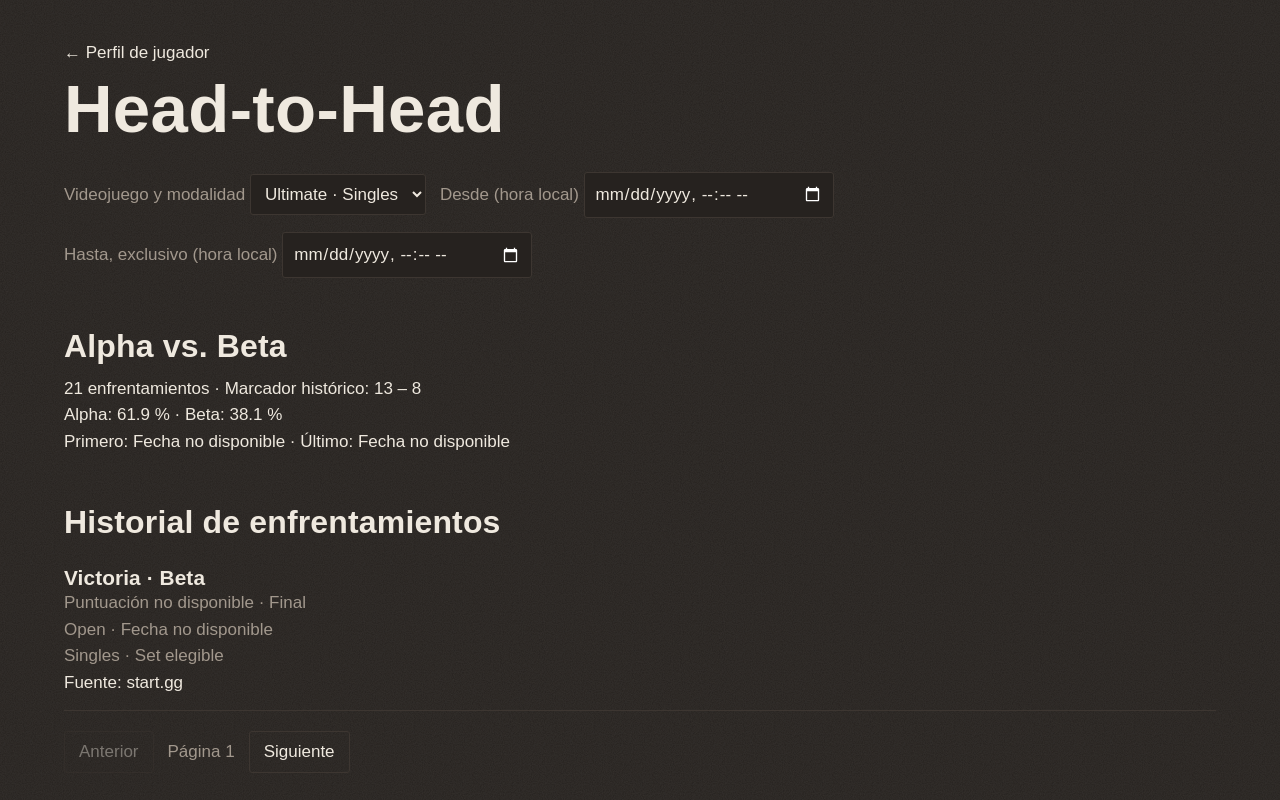
renders a comparison from API totals and paginates history
Check: the text "21 enfrentamientos · Marcador histórico: 13 – 8" is shown, box [64, 379, 421, 398]
Check: the text "Alpha: 61.9 % · Beta: 38.1 %" is shown, box [64, 405, 282, 424]
Click the button "Siguiente".
click(299, 752)  # box [249, 731, 350, 773]
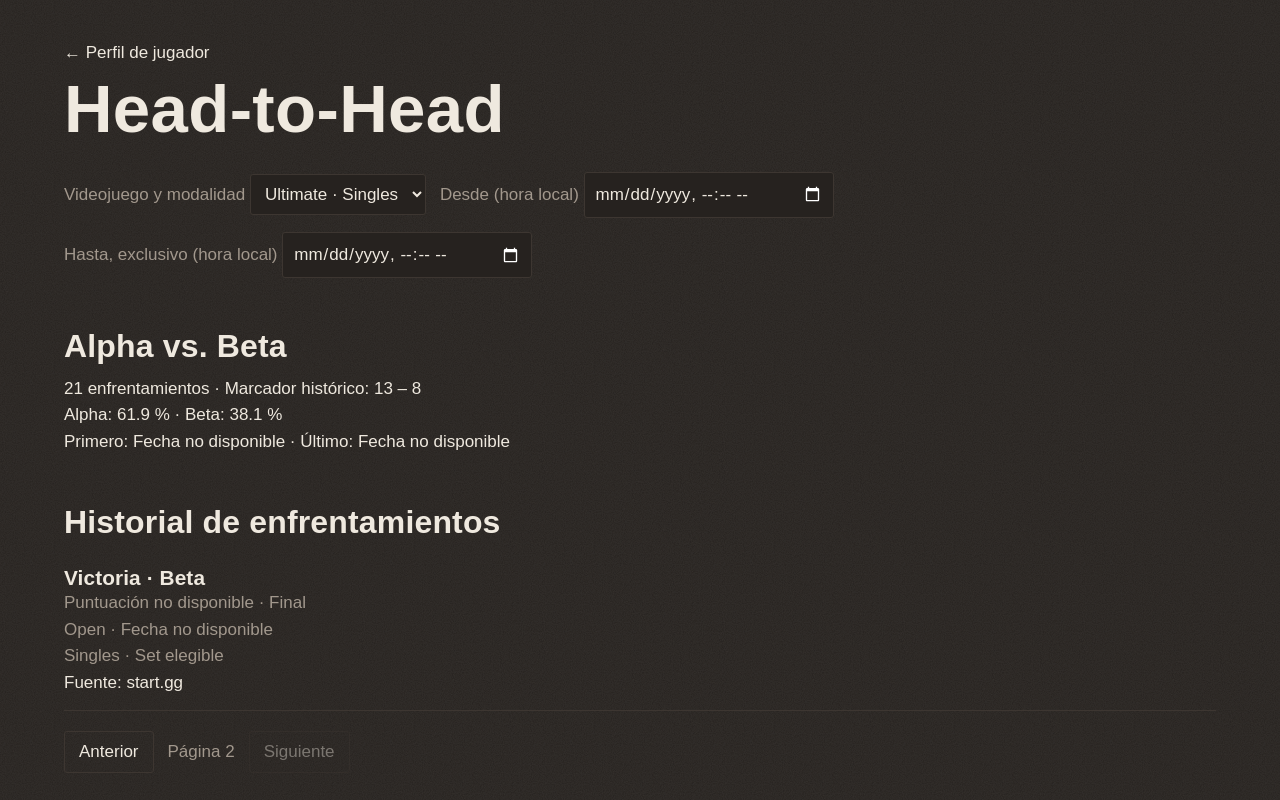
Check: the text "Página 2" is shown, box [168, 739, 235, 765]
